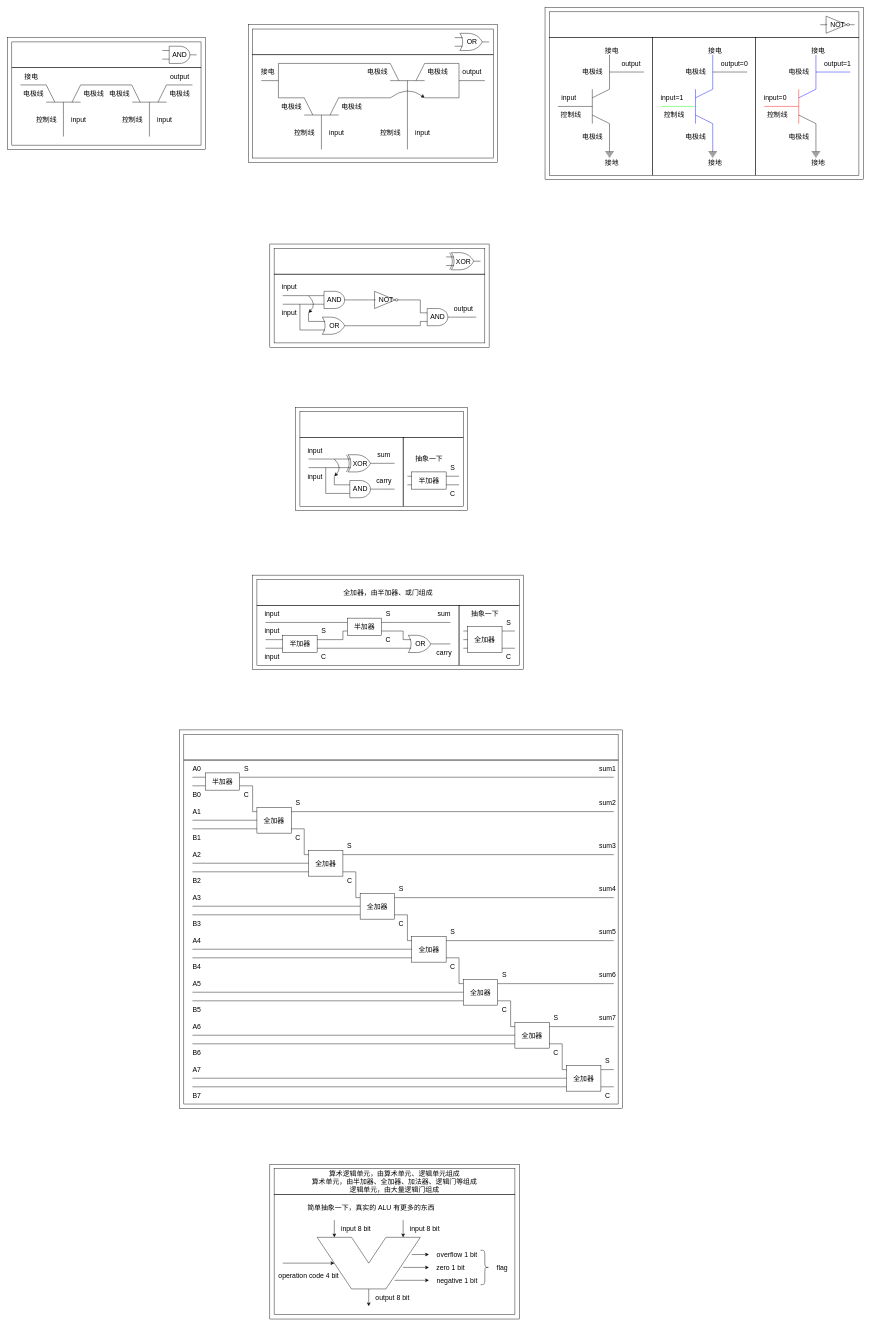
Some shapes in this 871 by 1327 pixel diagram are drawn without their labels. Here are the shapes that lost their labels. From the top down, the box of each, then its label:
(252, 29, 493, 55): 或门，并联两个二极管
(549, 11, 859, 38): 非门，一个二极管
(11, 41, 201, 68): 与门，串联两个二极管
(274, 248, 485, 274): 异或门，由三个基本逻辑门组成
(299, 411, 463, 438): 半加器，由异或门、与门组成
(183, 734, 618, 760): 8 位行波进位加法器，由半加器、全加器组成
